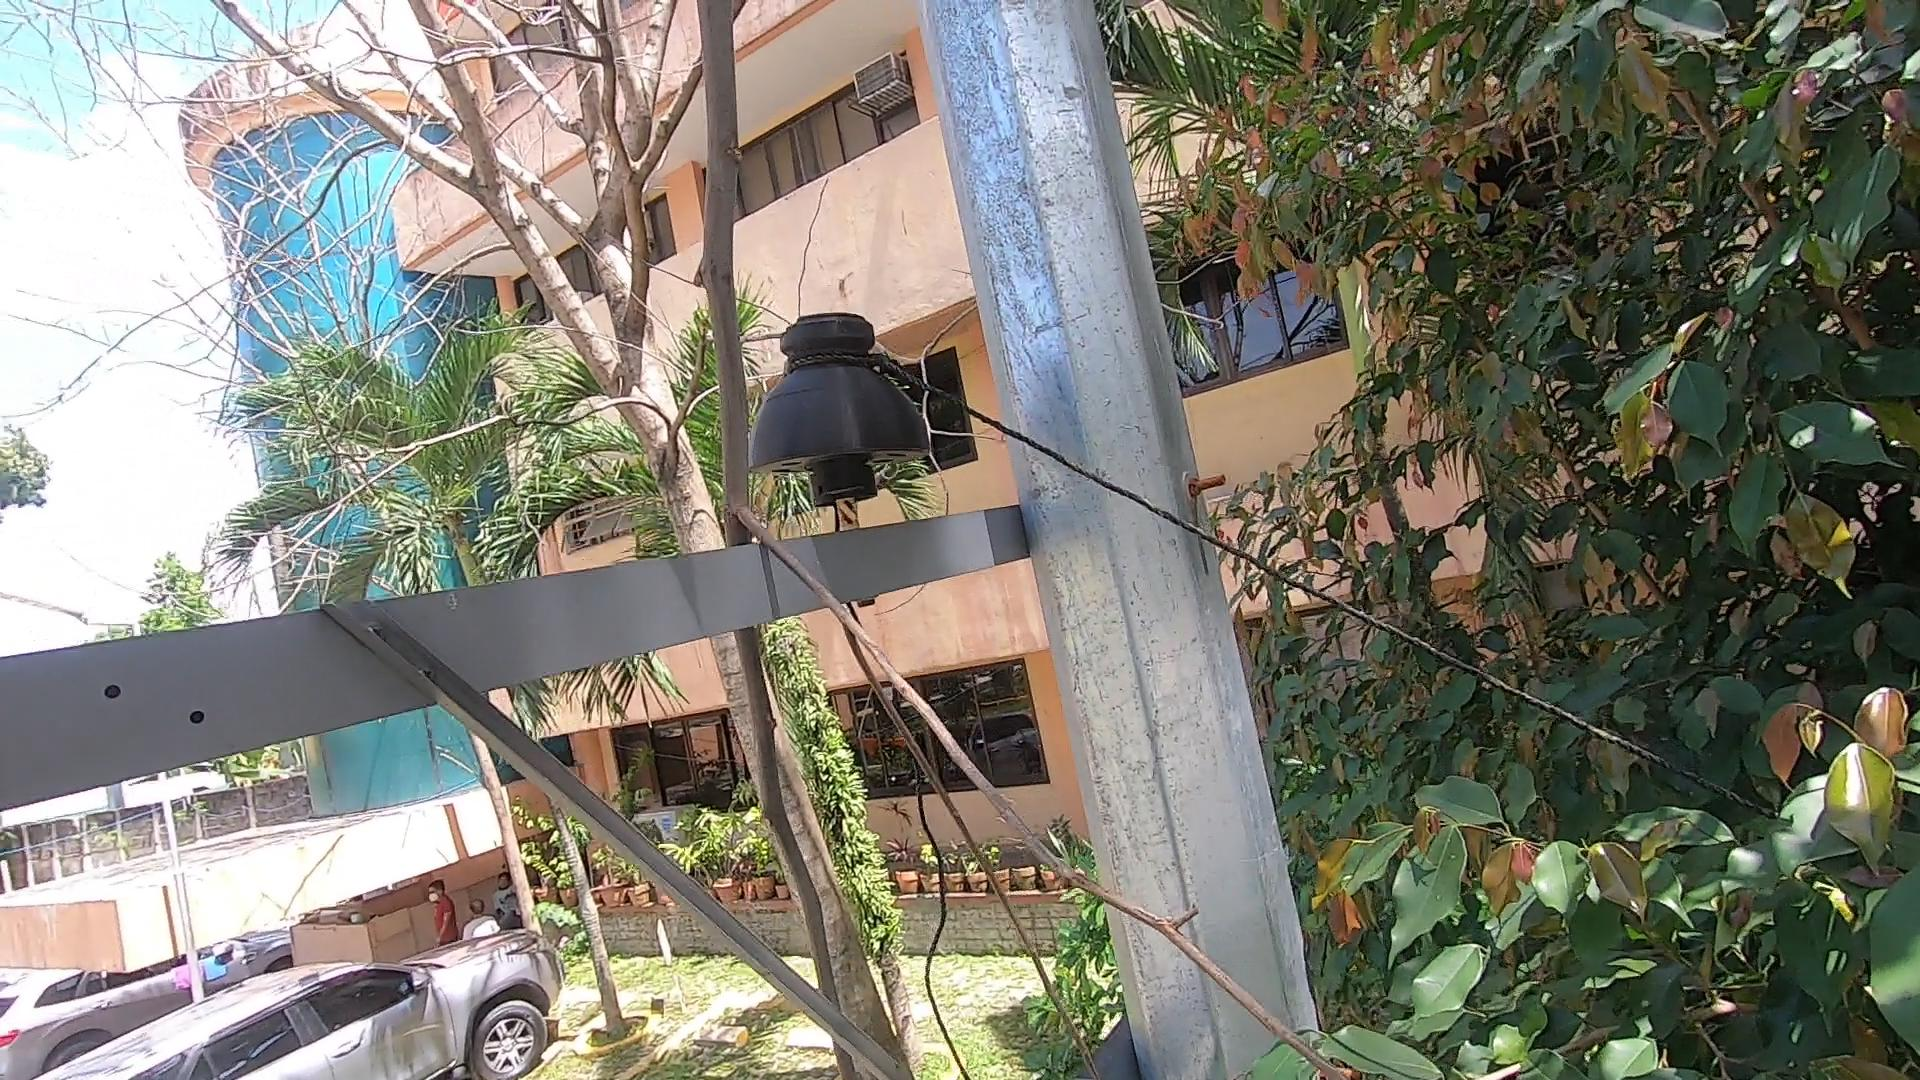tree branch: (645, 3, 1403, 1080)
